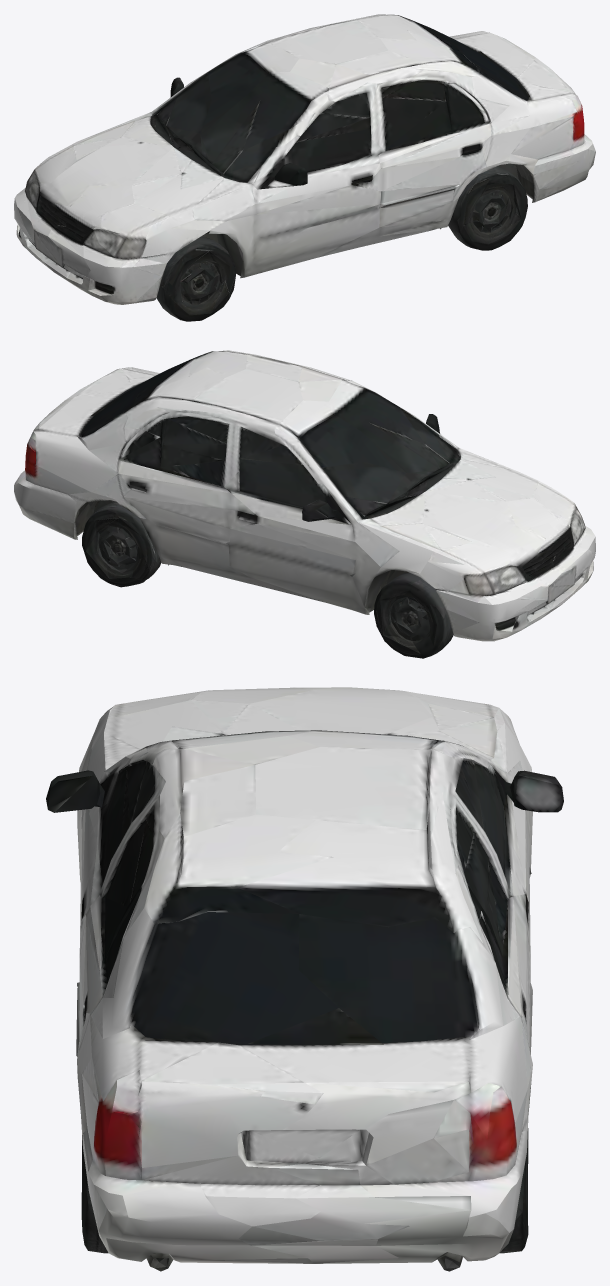
The model's file is car.glb.
The picture shows the model from 3 angles, top to bottom: view 1: azimuth 30°, elevation 25°; view 2: azimuth 150°, elevation 25°; view 3: azimuth 270°, elevation 25°; orthographic projection. The views are drawn at different scales.
Parts seen in each view (by area): view 1: output_unwrapped; view 2: output_unwrapped; view 3: output_unwrapped.
Boxes of the visible parts, box(x1,y1,x2,y2) form: output_unwrapped: box(14, 14, 595, 321); output_unwrapped: box(14, 350, 595, 658); output_unwrapped: box(46, 687, 563, 1271).
Bounding box in the file's own units: 1.9 × 0.6654 × 0.8417.
1 material, 1 textured.
